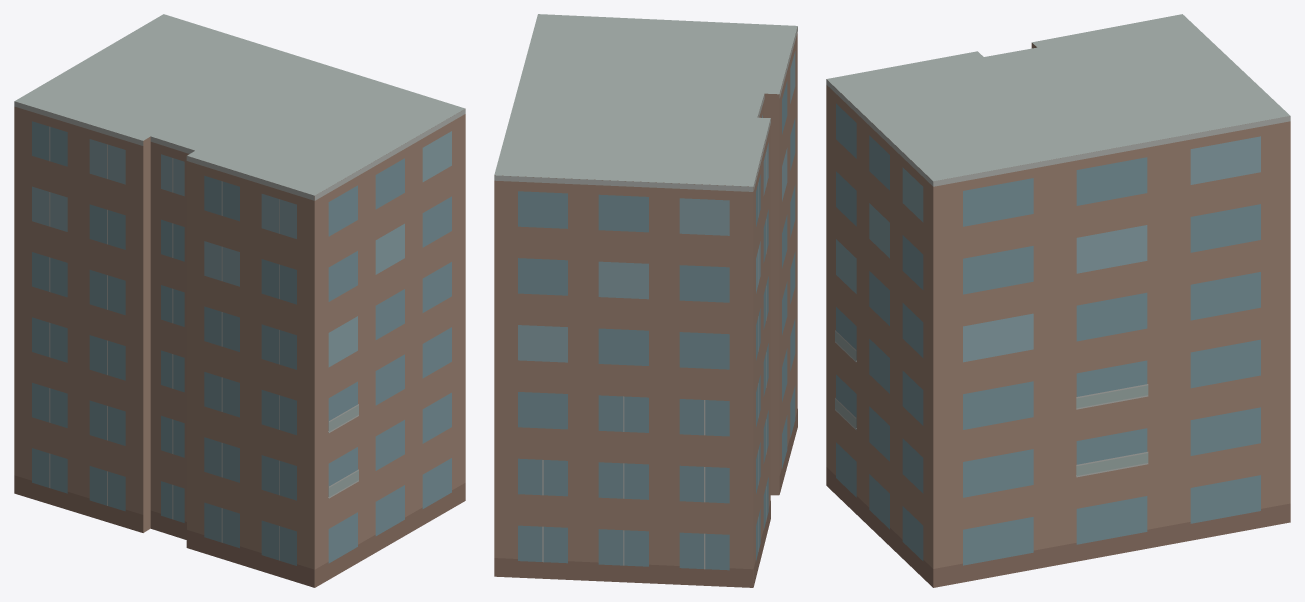
File: survey-upis-32585056.glb
The picture shows the model from 3 angles, left to right: view 1: azimuth 30°, elevation 25°; view 2: azimuth 150°, elevation 25°; view 3: azimuth 270°, elevation 25°; orthographic projection. The views are drawn at different scales.
Parts seen in each view (by area): view 1: survey-upis-32585056.tmp; view 2: survey-upis-32585056.tmp; view 3: survey-upis-32585056.tmp.
Boxes of the visible parts, x1,y1,x2,y2 form: survey-upis-32585056.tmp: (14,14,465,587); survey-upis-32585056.tmp: (494,14,797,587); survey-upis-32585056.tmp: (826,14,1290,587).
Size of the model in its own units: 16.17 by 18.3 by 18.95.
